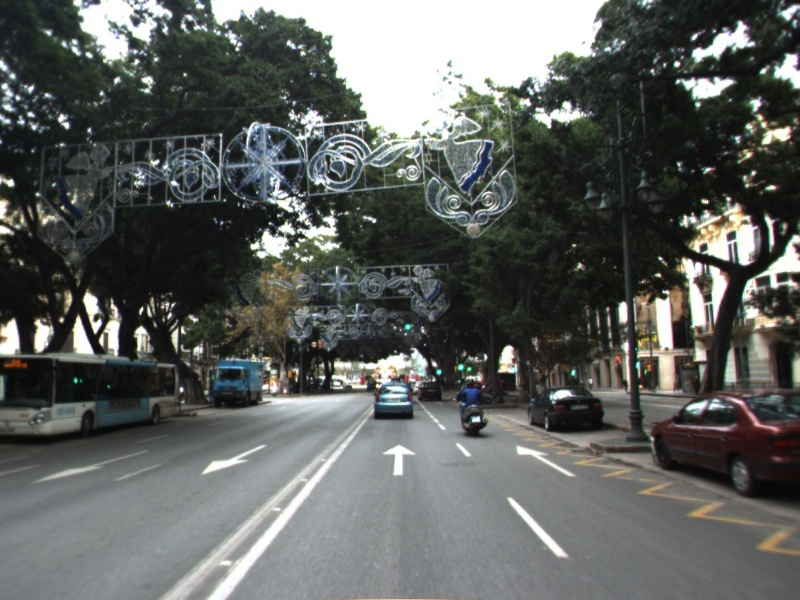STRAIGHT: (515, 444, 578, 478), (381, 442, 418, 477)
